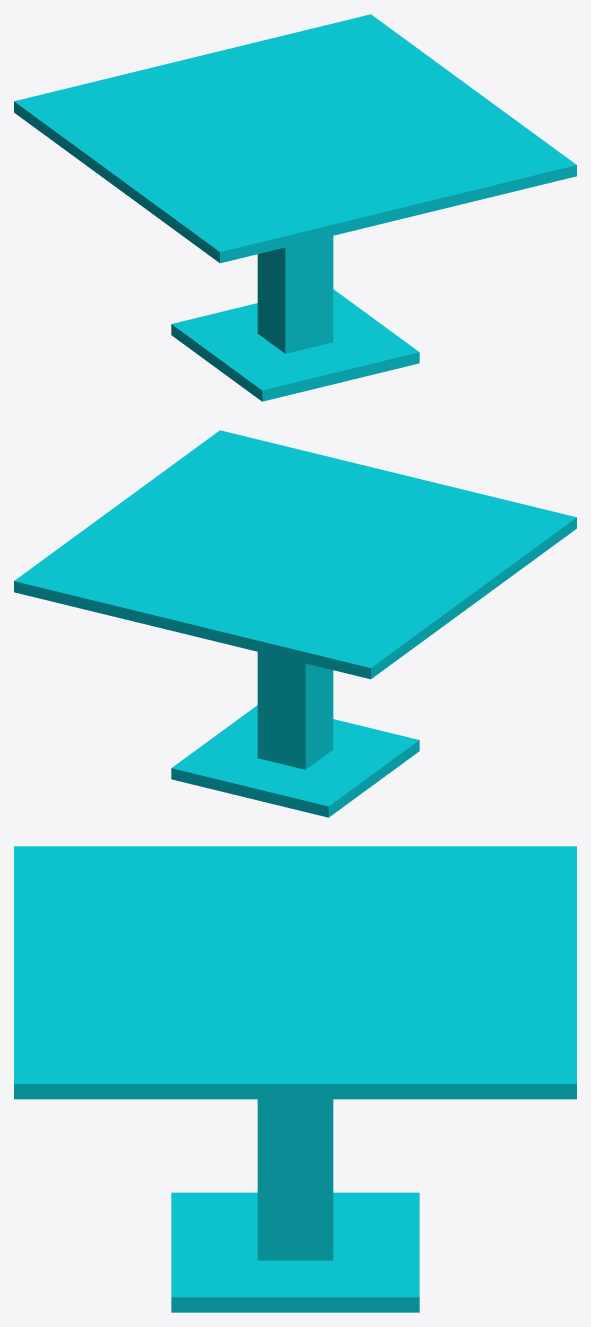
File: Tavolo.fbx
3 views of the same model, one above another, from view 1: azimuth 30°, elevation 25°; view 2: azimuth 150°, elevation 25°; view 3: azimuth 270°, elevation 25° (orthographic). The views are drawn at different scales.
Parts seen in each view (by area): view 1: tavolo; view 2: tavolo; view 3: tavolo.
Part boxes in pixels (box(x1,y1,x2,y2)): tavolo: box(14, 14, 576, 401); tavolo: box(14, 430, 576, 817); tavolo: box(14, 846, 576, 1312).
Size of the model in its own units: 75.72 by 43.81 by 75.72.
